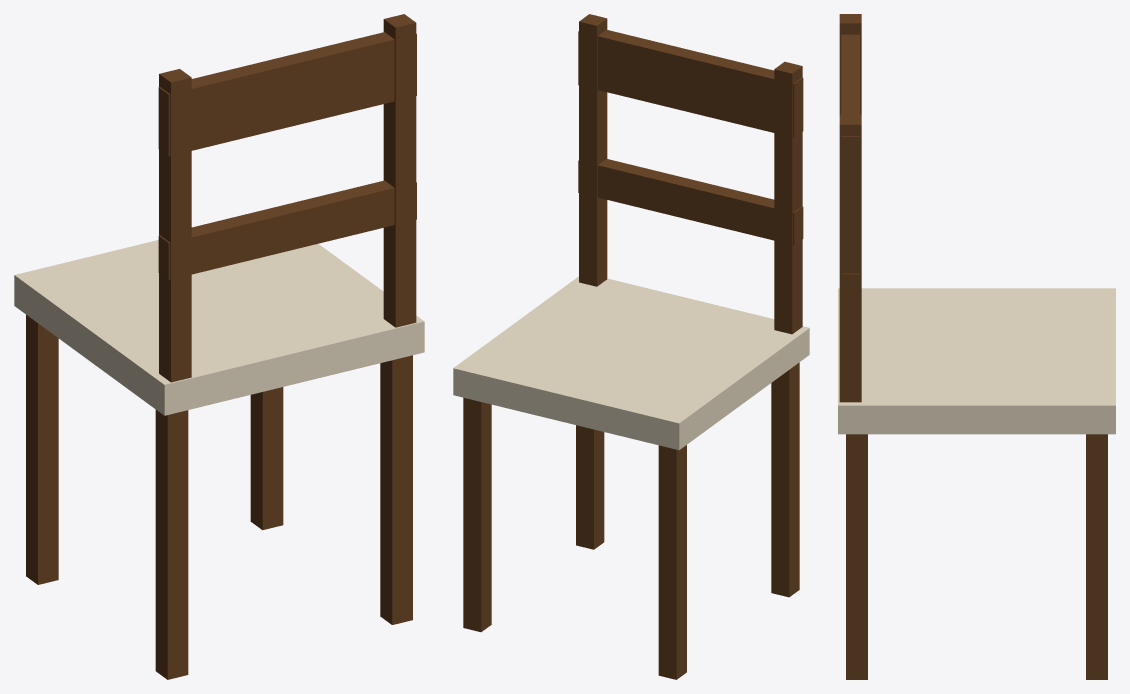
File: chair.glb
3 renders of one model, left to right at view 1: azimuth 30°, elevation 25°; view 2: azimuth 150°, elevation 25°; view 3: azimuth 270°, elevation 25°, orthographic. The views are drawn at different scales.
Visible parts, largest first — view 1: chair; view 2: chair; view 3: chair.
Part boxes in pixels (left/top/right/bottom): chair: left=14, top=14, right=424, bottom=679; chair: left=453, top=14, right=809, bottom=679; chair: left=838, top=14, right=1115, bottom=679.
Bounding box in the file's own units: 0.44 × 0.97 × 0.44.
